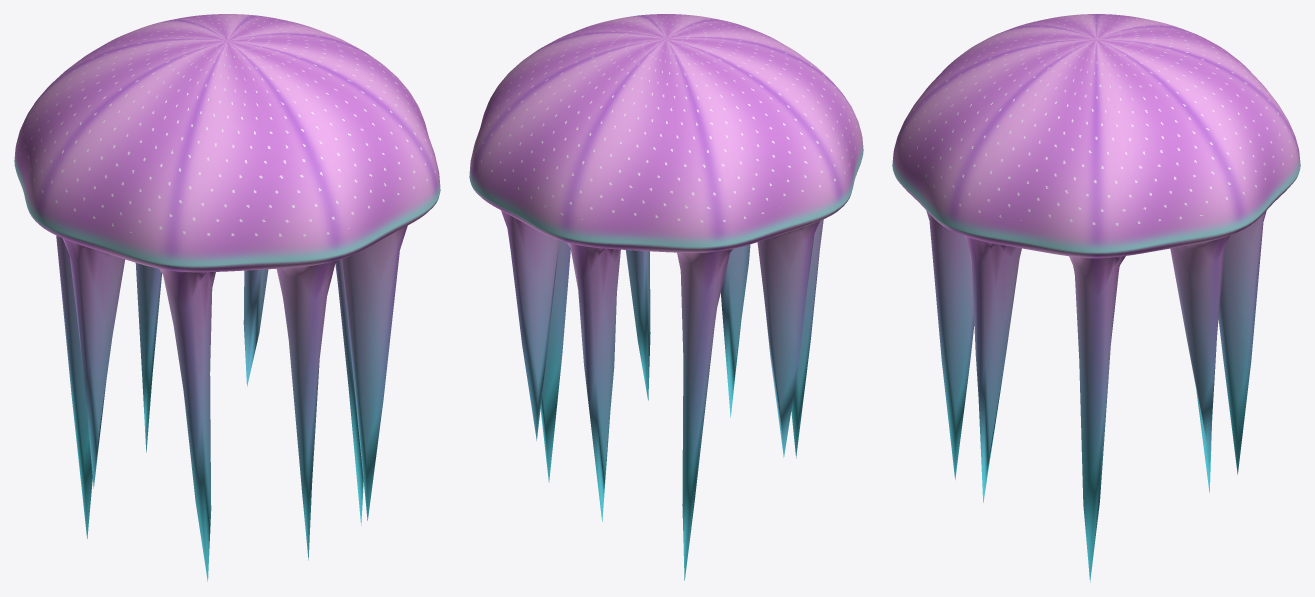
The model's file is Jellyfish.fbx.
3 renders of one model, left to right at view 1: azimuth 30°, elevation 25°; view 2: azimuth 150°, elevation 25°; view 3: azimuth 270°, elevation 25°, orthographic. The views are drawn at different scales.
Parts seen in each view (by area): view 1: Jellyfish; view 2: Jellyfish; view 3: Jellyfish.
Part boxes in pixels (x1,y1,x2,y2): Jellyfish: [14, 14, 440, 581]; Jellyfish: [469, 14, 863, 580]; Jellyfish: [892, 14, 1300, 582].
Bounding box in the file's own units: 0.205 × 0.2727 × 0.205.
1 material, 1 textured.
